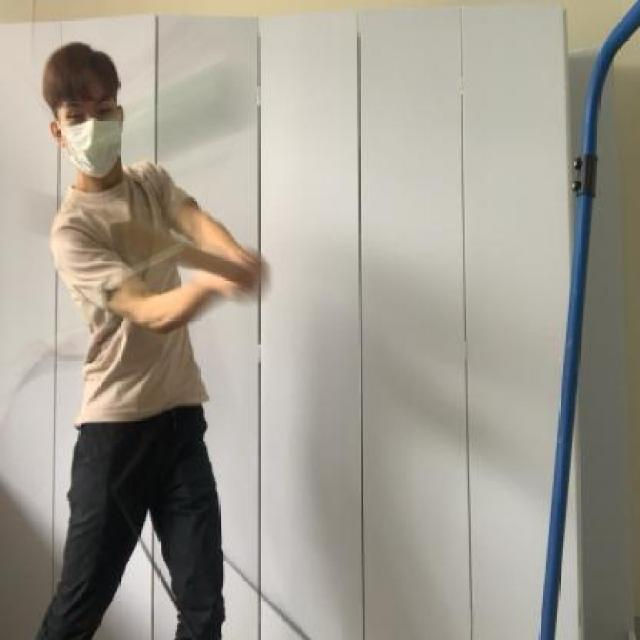baseball: (121, 58, 254, 154)
